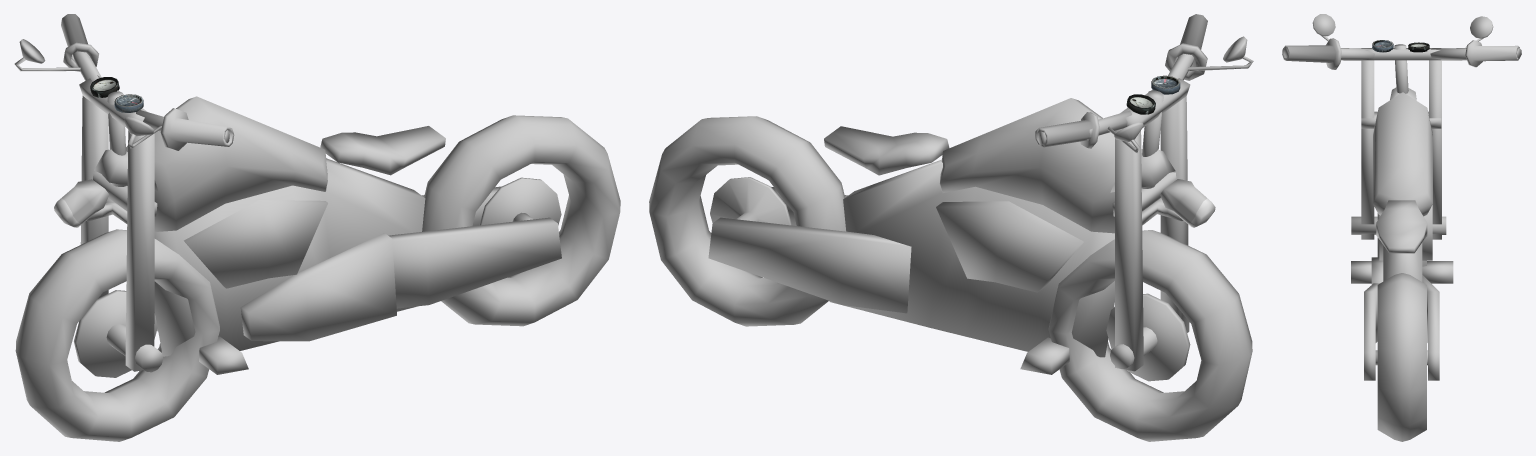
File: SM_Moto00.fbx
3 views of the same model, side by side, from view 1: azimuth 30°, elevation 25°; view 2: azimuth 150°, elevation 25°; view 3: azimuth 270°, elevation 25° (orthographic). The views are drawn at different scales.
Visible parts, largest first — view 1: SM_Moto00, SM_MotoGuidon00; view 2: SM_Moto00, SM_MotoGuidon00; view 3: SM_Moto00, SM_MotoGuidon00.
Boxes of the visible parts, x1,y1,x2,y2 form: SM_Moto00: (94,96,620,374); SM_MotoGuidon00: (14,14,234,441); SM_Moto00: (649,98,1175,374); SM_MotoGuidon00: (1035,14,1253,441); SM_Moto00: (1351,87,1453,441); SM_MotoGuidon00: (1282,14,1521,266).
Size of the model in its own units: 264 by 157 by 124.
